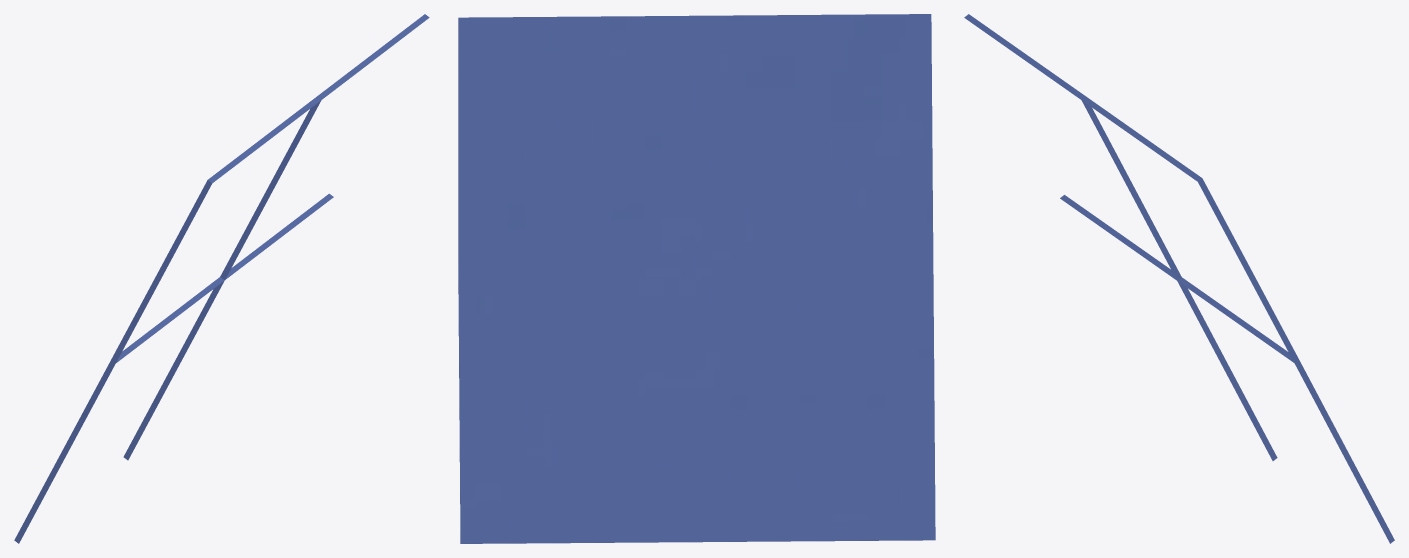
3 renders of one model, left to right at view 1: azimuth 30°, elevation 25°; view 2: azimuth 150°, elevation 25°; view 3: azimuth 270°, elevation 25°, orthographic. The views are drawn at different scales.
Size of the model in its own units: 19681 by 17686 by 16743.
Materials: 1 (1 with a texture image).
